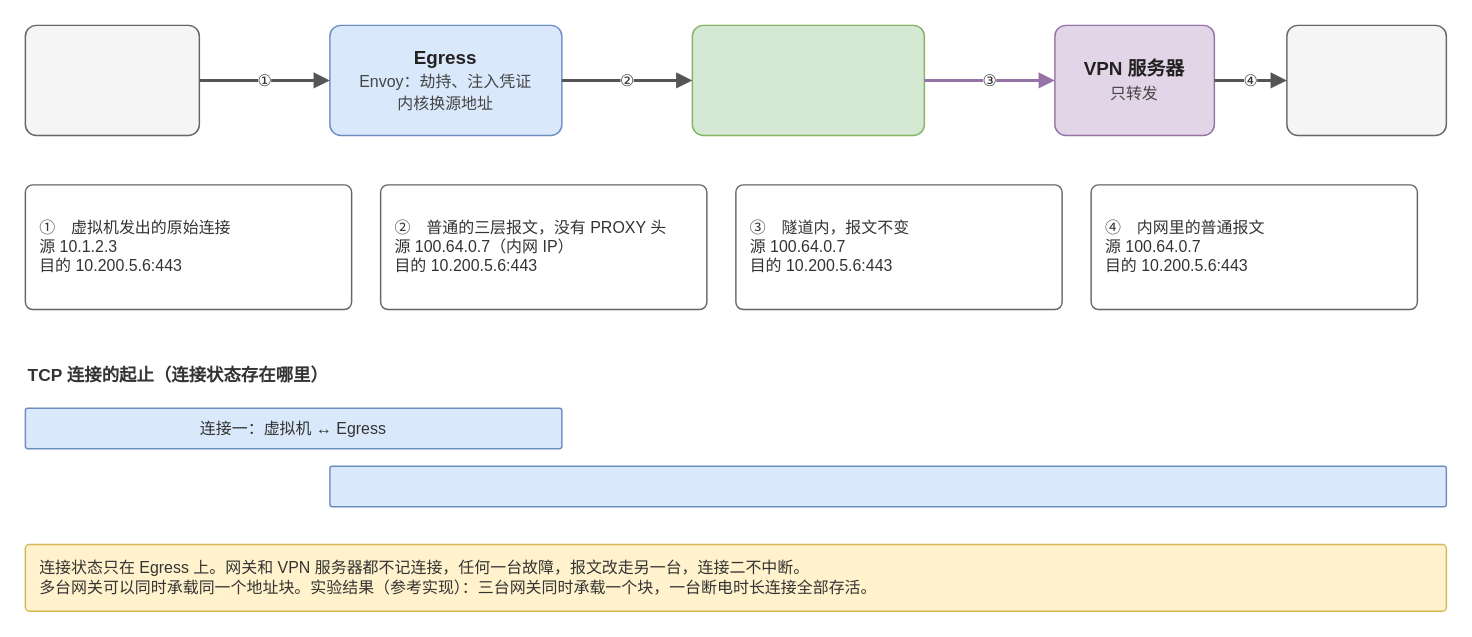
Some shapes in this 1472 by 637 pixel diagram are drawn without their labels. Each missing label, with the box of its shape:
VPN 网关 只做路由和隧道 不记连接: (691, 24, 924, 136)
内网服务 10.200.5.6: (1285, 24, 1446, 136)
虚拟机 10.1.2.3: (24, 24, 199, 136)
连接二：Egress ↔ 内网服务（中间的网关和 VPN 服务器只转发报文）: (328, 465, 1446, 507)
